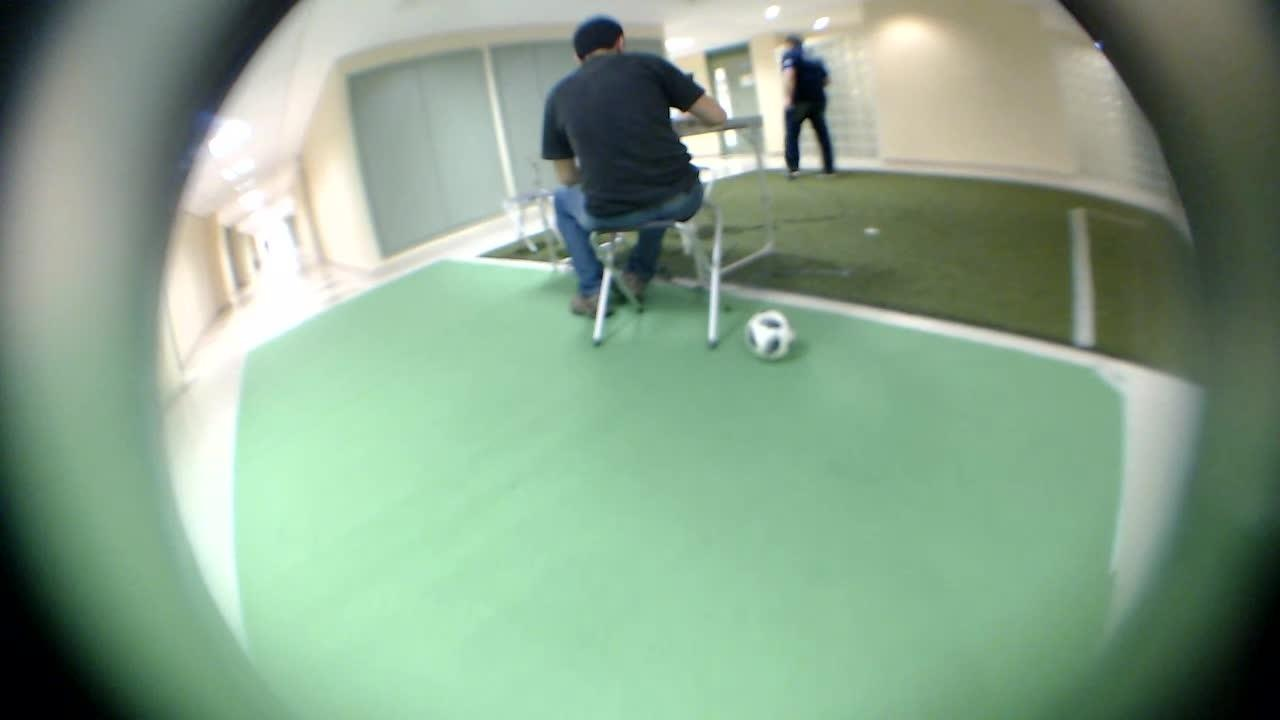ball: (744, 295, 798, 370)
